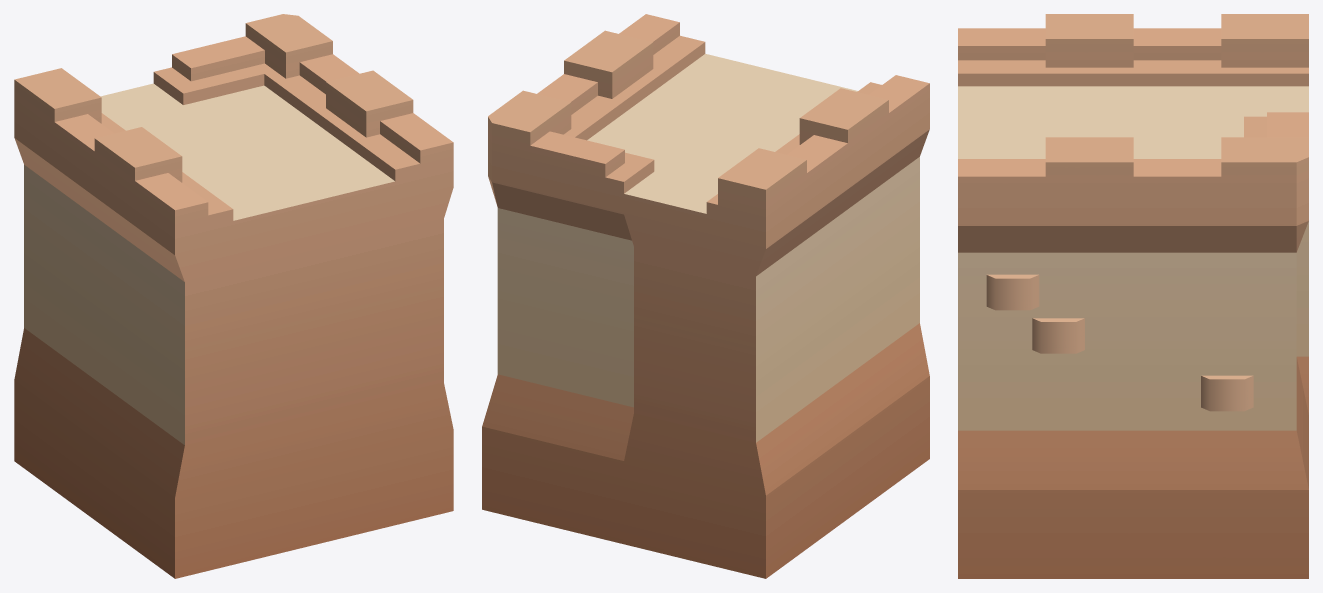
File: wall-to-narrow.glb
3 views of the same model, side by side, from view 1: azimuth 30°, elevation 25°; view 2: azimuth 150°, elevation 25°; view 3: azimuth 270°, elevation 25° (orthographic). The views are drawn at different scales.
Visible parts, largest first — view 1: wall-to-narrow; view 2: wall-to-narrow; view 3: wall-to-narrow.
Part boxes in pixels (x1,y1,x2,y2): wall-to-narrow: (14,14,453,578); wall-to-narrow: (482,14,929,578); wall-to-narrow: (958,14,1308,578).
Bounding box in the file's own units: 1 × 1.31 × 1.
1 material, 1 textured.
